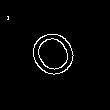O_SE: (19, 20, 83, 86)
